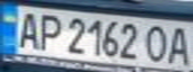1: (84, 16, 106, 56)
2: (118, 20, 142, 61), (63, 15, 87, 55)
6: (103, 18, 124, 58)
A: (163, 24, 193, 66), (12, 9, 42, 50)
O: (142, 22, 172, 64)
P: (33, 11, 63, 52)
